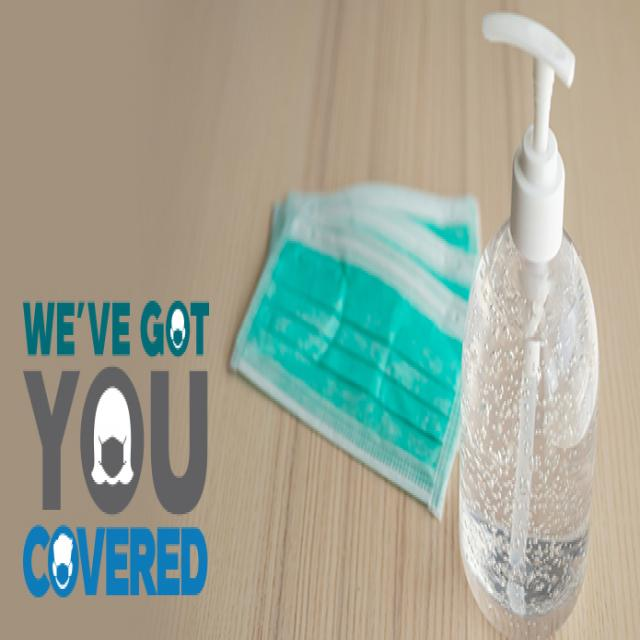non-organic waste: (239, 166, 487, 516)
